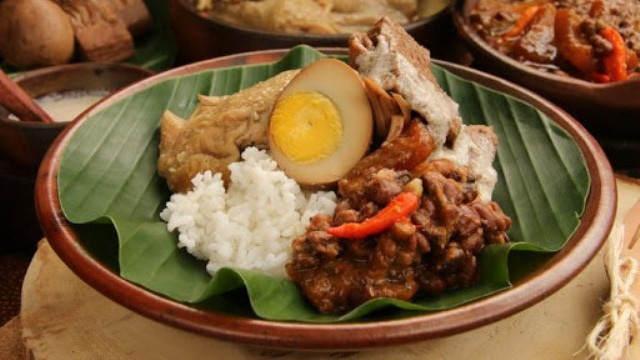gudeg: (142, 49, 504, 299)
